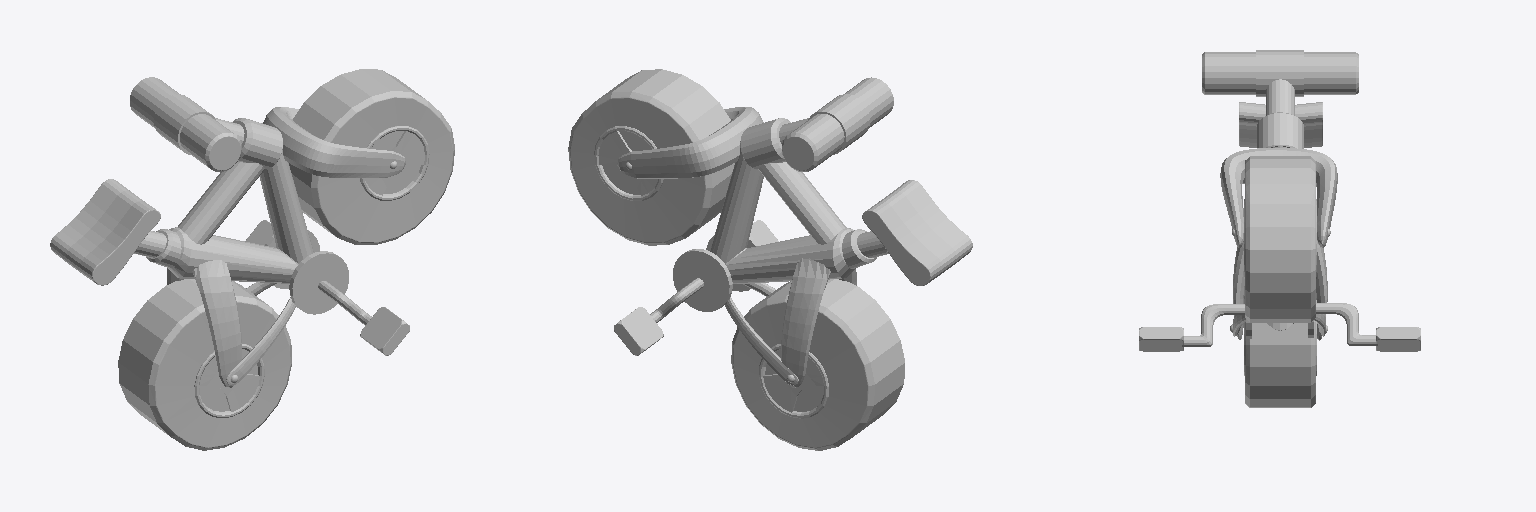
The model's file is bicycle.obj.
3 renders of one model, left to right at view 1: azimuth 30°, elevation 25°; view 2: azimuth 150°, elevation 25°; view 3: azimuth 270°, elevation 25°, orthographic.
Parts seen in each view (by area): view 1: Bicycle.001; view 2: Bicycle.001; view 3: Bicycle.001.
Boxes of the visible parts, x1,y1,x2,y2 form: Bicycle.001: [50, 69, 454, 450]; Bicycle.001: [568, 69, 972, 450]; Bicycle.001: [1139, 50, 1420, 407].
Bounding box in the file's own units: 21.53 × 18.91 × 14.26.